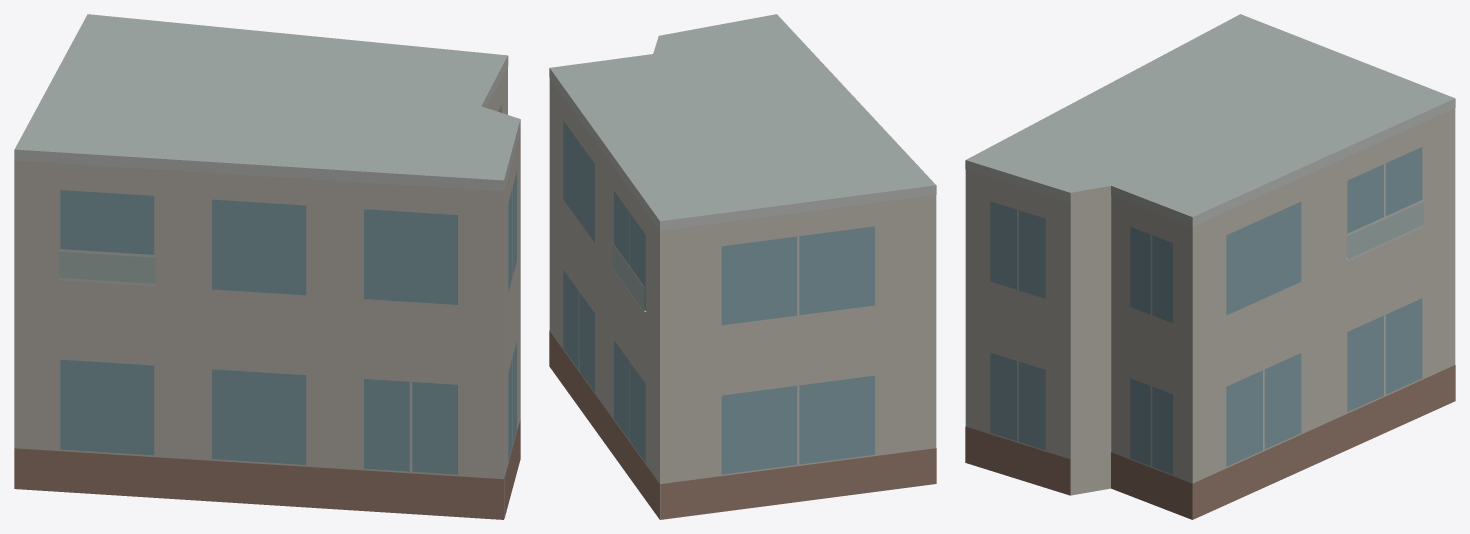
Rendered from survey-upis-32648426.glb.
The picture shows the model from 3 angles, left to right: view 1: azimuth 30°, elevation 25°; view 2: azimuth 150°, elevation 25°; view 3: azimuth 270°, elevation 25°; orthographic projection. The views are drawn at different scales.
Visible parts, largest first — view 1: survey-upis-32648426.tmp; view 2: survey-upis-32648426.tmp; view 3: survey-upis-32648426.tmp.
Part boxes in pixels (x1,y1,x2,y2): survey-upis-32648426.tmp: (14,14,520,519); survey-upis-32648426.tmp: (549,14,936,519); survey-upis-32648426.tmp: (965,14,1455,519).
Size of the model in its own units: 10.95 by 7.6 by 11.16.
